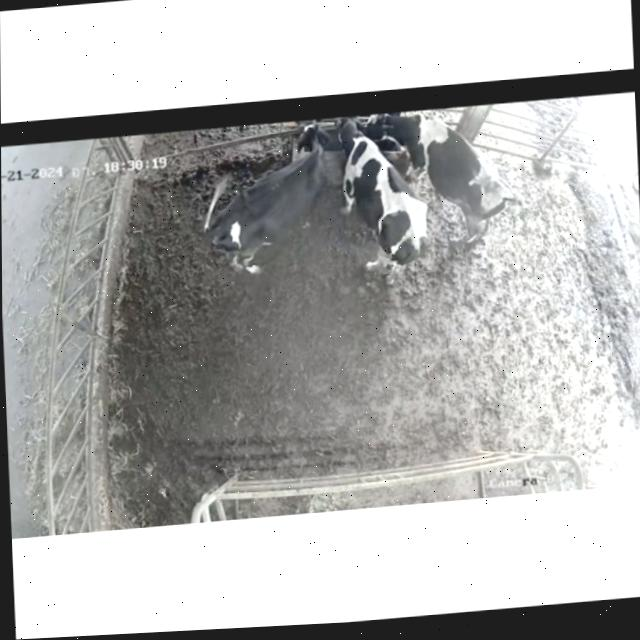drink: (371, 107, 423, 156), (331, 115, 374, 164), (291, 119, 333, 167)
